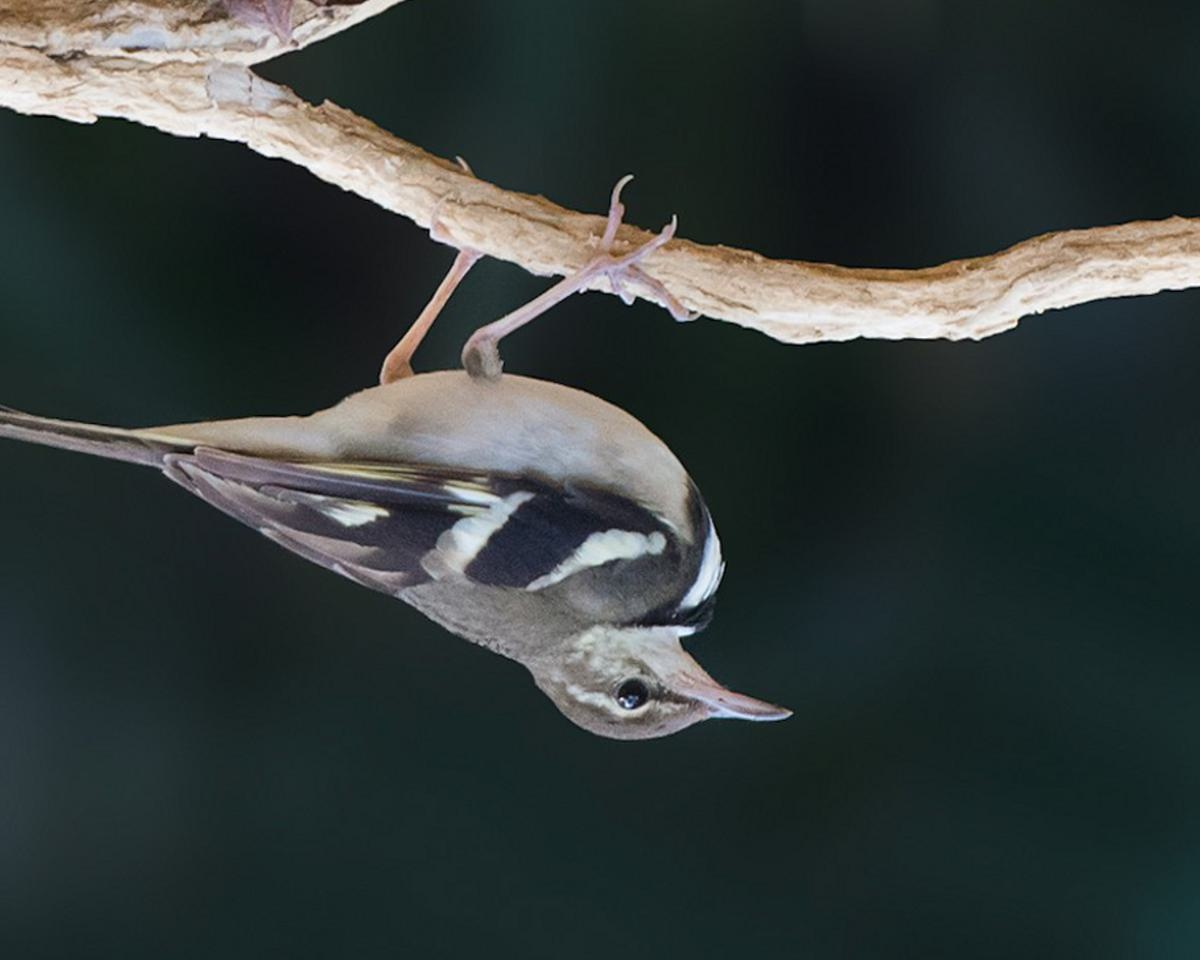wagtail: (155, 237, 814, 745)
